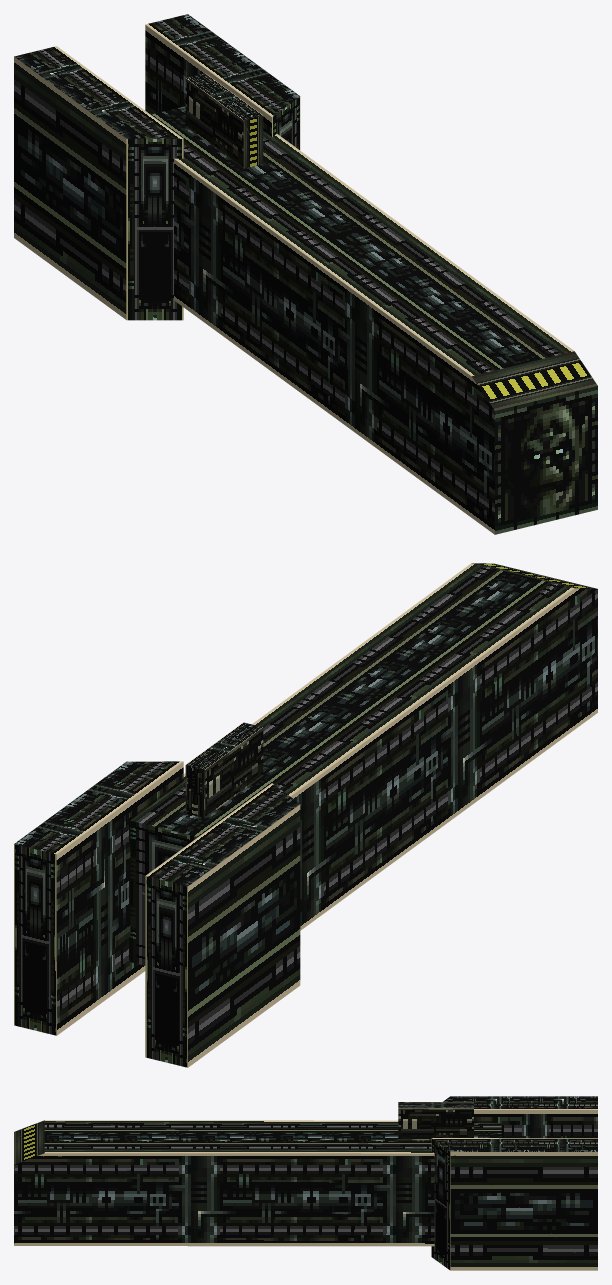
The model's file is Dorisby.dae.
3 views of the same model, one above another, from view 1: azimuth 30°, elevation 25°; view 2: azimuth 150°, elevation 25°; view 3: azimuth 270°, elevation 25° (orthographic). The views are drawn at different scales.
Visible parts, largest first — view 1: pipes, hull, face, bay, deck, machine; view 2: pipes, hull, bay, machine; view 3: pipes, hull, machine, bay, deck.
Part boxes in pixels (x1,y1,x2,y2): pipes: (14,14,494,534); hull: (14,57,574,376); face: (495,386,597,534); bay: (126,96,300,320); deck: (243,115,597,410); machine: (185,78,243,168); pipes: (14,588,597,1035); hull: (130,563,574,1067); bay: (14,820,197,1067); machine: (185,727,263,818); pipes: (14,1096,597,1246); hull: (44,1120,597,1270); machine: (398,1108,473,1140); bay: (431,1138,450,1270); deck: (14,1120,44,1164).
Size of the model in its own units: 1114 by 1287 by 4941.
6 materials, 6 textured.
